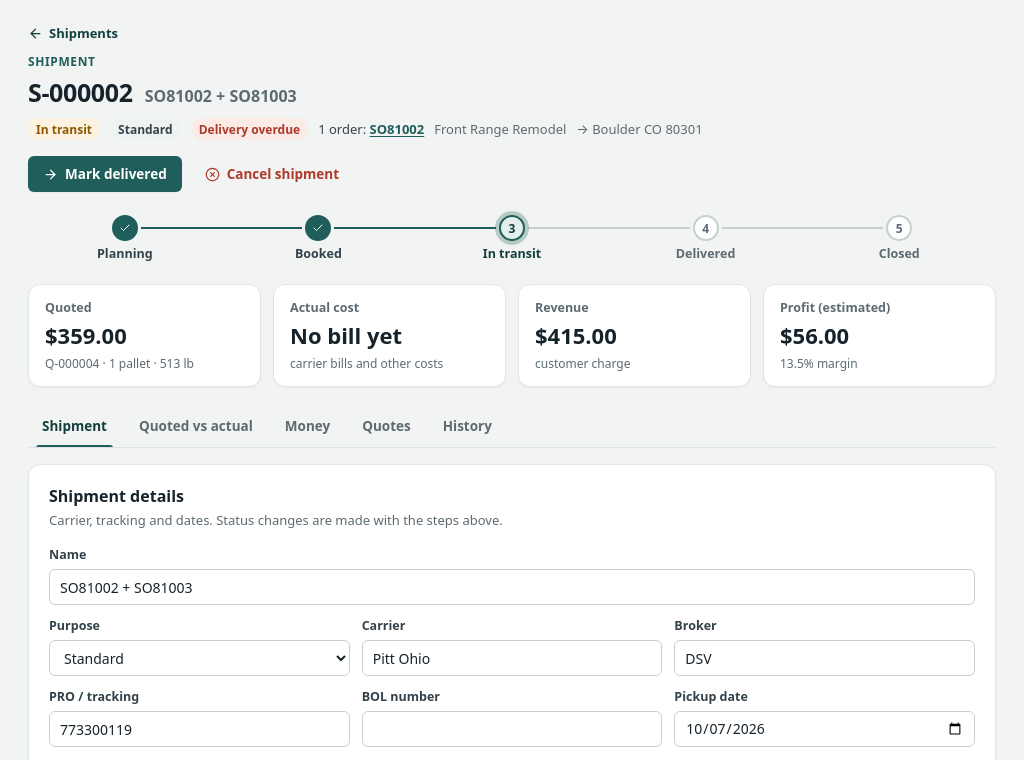
it: Shipment detail › marks a shipment delivered with the full shipment body and suggests the delivered email
The image size is (1024, 760).
Check: the heading "Shipment details" is shown, box [49,485,184,507]
Check: the text "Q-000004 · 1 pallet · 513 lb" is shown, box [45,355,194,372]
Click the button "Mark delivered" at (105, 174), box [28,156,182,192]
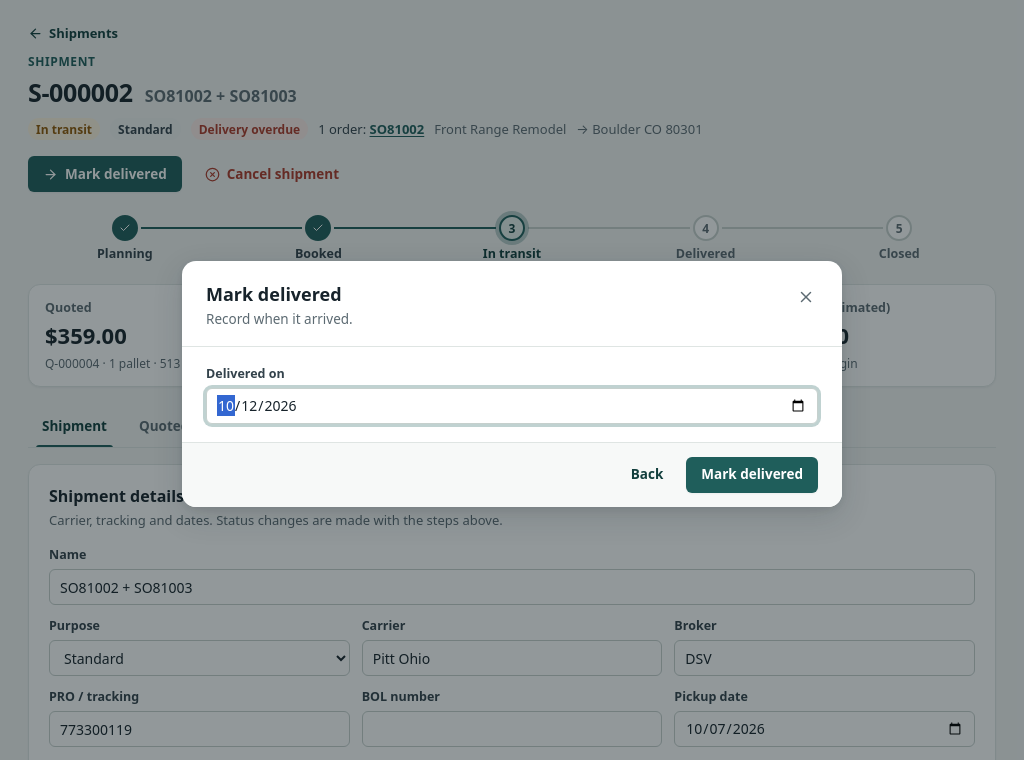
Type "2026-10-09" into the date field labelled "Delivered on" at (512, 406), box [206,388,818,424]
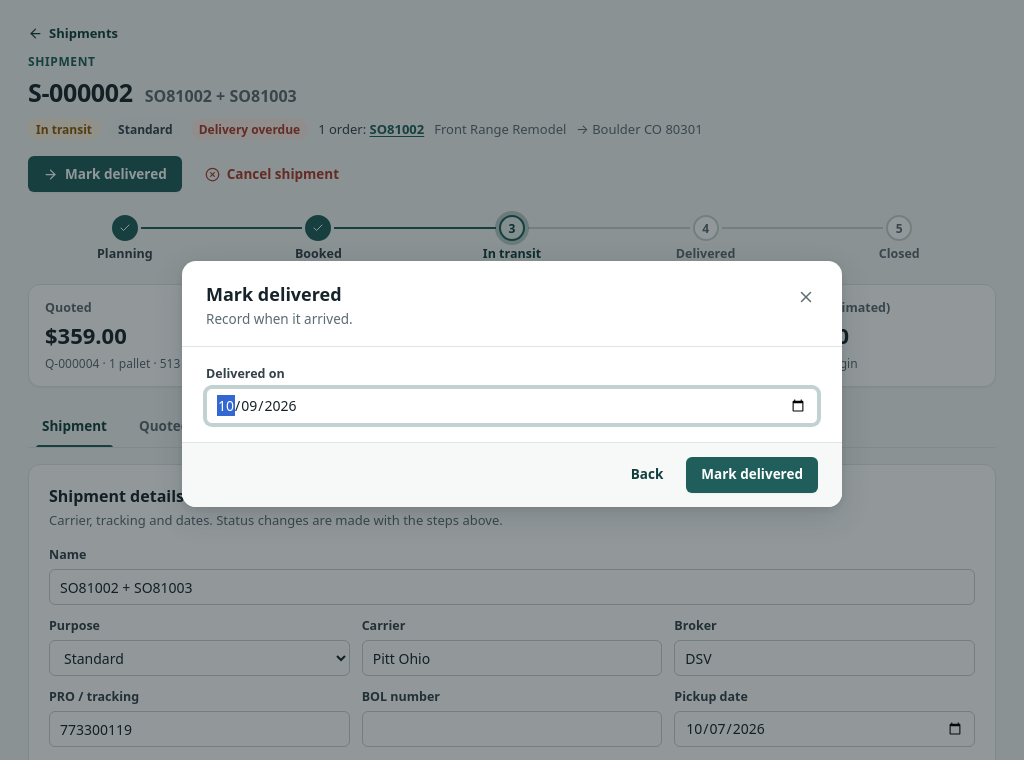
Submit the form with id "status-form", box [206,365,818,424]
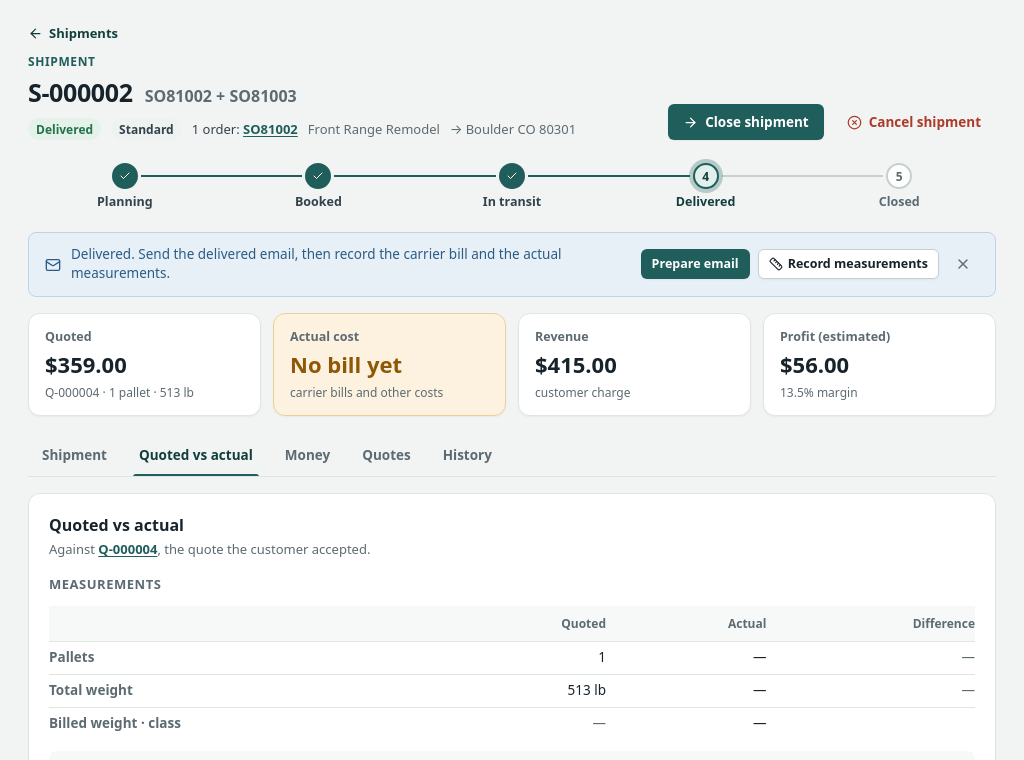
Check: the text "Send the delivered email" is shown, box [71,245,562,282]
